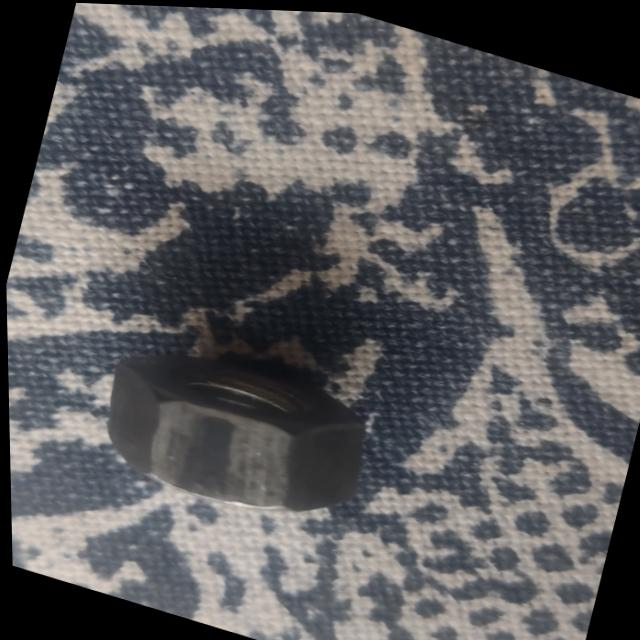disinfected nut: (103, 351, 362, 508)
